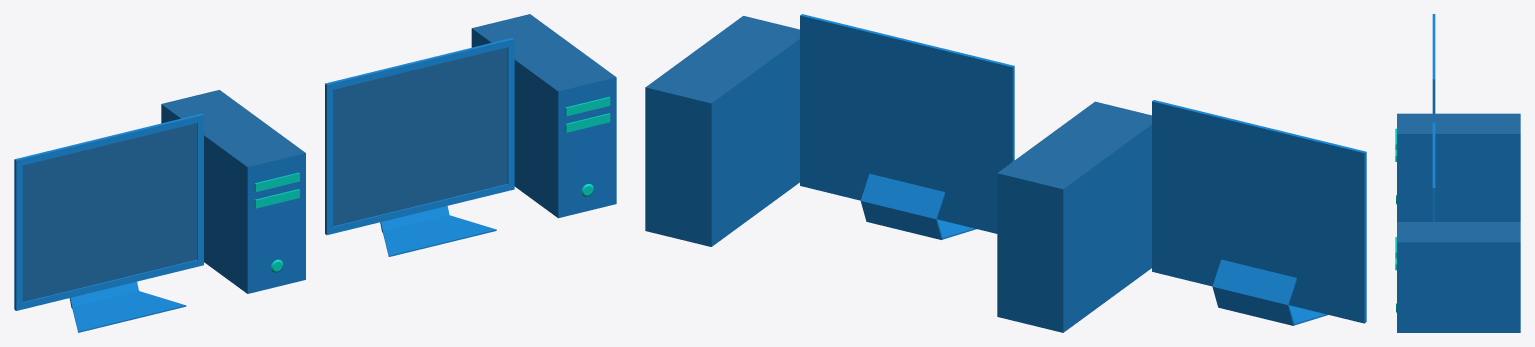
The model's file is assets.gltf.
The picture shows the model from 3 angles, left to right: view 1: azimuth 30°, elevation 25°; view 2: azimuth 150°, elevation 25°; view 3: azimuth 270°, elevation 25°; orthographic projection. The views are drawn at different scales.
Parts seen in each view (by area): view 1: 对象404, 对象386, 操作员站组, 对象400, 对象389, 对象401, 对象391, 对象387, 对象403, 对象402, 对象388; view 2: 操作员站组, 对象400, 对象389, 对象391, 对象401; view 3: 对象400, 对象389, 对象401, 对象391, 操作员站组.
Part boxes in pixels (x1,y1,x2,y2): 对象404: [333, 47, 507, 226]; 对象386: [22, 123, 196, 301]; 操作员站组: [14, 37, 514, 332]; 对象400: [471, 28, 616, 218]; 对象389: [161, 104, 305, 293]; 对象401: [472, 14, 615, 91]; 对象391: [161, 90, 305, 166]; 对象387: [254, 189, 299, 208]; 对象403: [565, 96, 610, 116]; 对象402: [565, 113, 610, 132]; 对象388: [254, 172, 299, 191]; 操作员站组: [800, 14, 1366, 325]; 对象400: [645, 39, 799, 246]; 对象389: [997, 124, 1151, 332]; 对象391: [997, 101, 1151, 189]; 对象401: [646, 16, 799, 103]; 对象400: [1397, 242, 1520, 332]; 对象389: [1397, 134, 1520, 221]; 对象401: [1397, 222, 1520, 242]; 对象391: [1397, 113, 1520, 133]; 操作员站组: [1432, 14, 1435, 221].
Bounding box in the file's own units: 2.42 × 0.6656 × 0.6374.
